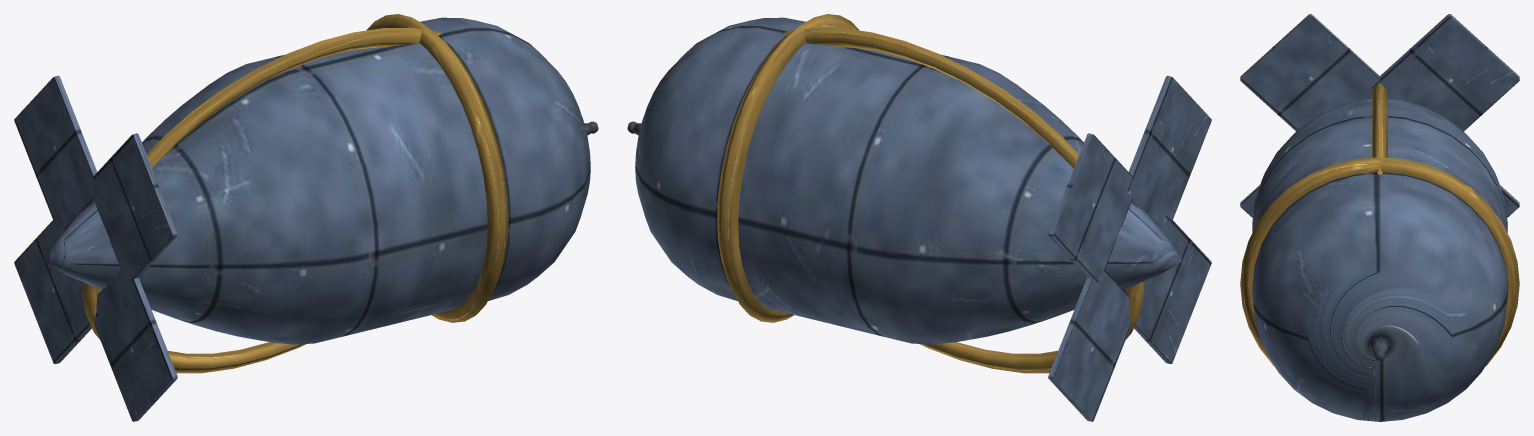
Rendered from bloon_moab.glb.
3 views of the same model, side by side, from view 1: azimuth 30°, elevation 25°; view 2: azimuth 150°, elevation 25°; view 3: azimuth 270°, elevation 25° (orthographic). The views are drawn at different scales.
Parts seen in each view (by area): view 1: bloon_moab; view 2: bloon_moab; view 3: bloon_moab.
Boxes of the visible parts, x1,y1,x2,y2 form: bloon_moab: (14,14,598,421); bloon_moab: (627,14,1211,421); bloon_moab: (1240,14,1519,421).
Size of the model in its own units: 4 by 2.12 by 1.98.
Materials: 3 (3 with a texture image).
